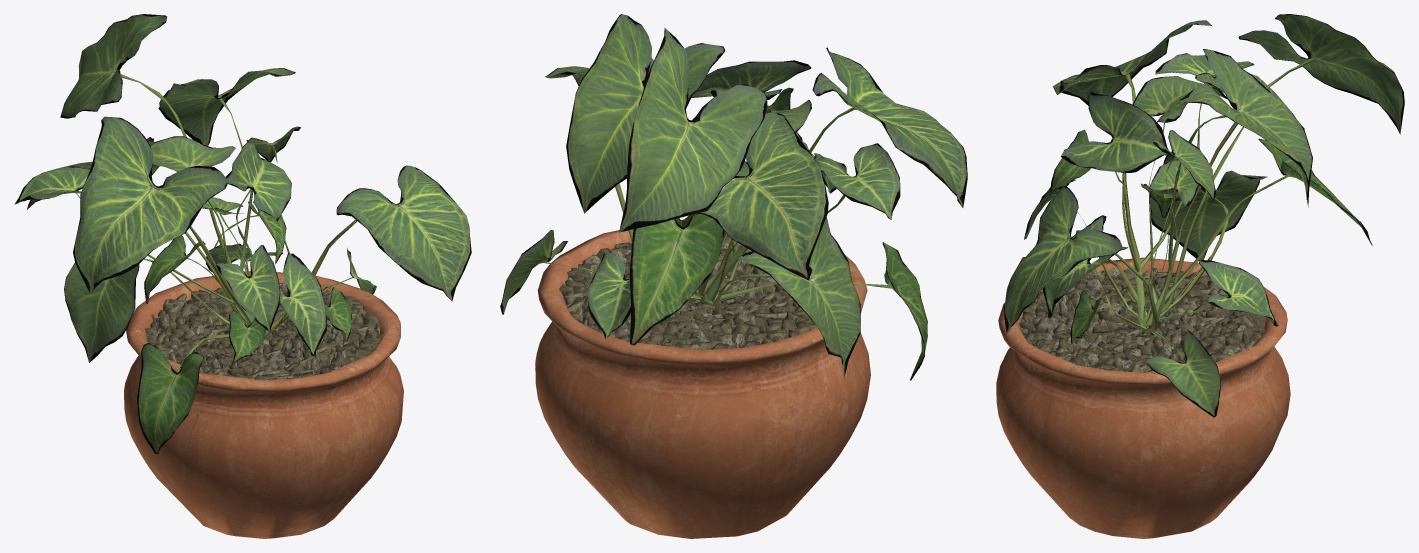
The model's file is potted_plant_02.glb.
3 views of the same model, side by side, from view 1: azimuth 30°, elevation 25°; view 2: azimuth 150°, elevation 25°; view 3: azimuth 270°, elevation 25° (orthographic). The views are drawn at different scales.
Visible parts, largest first — view 1: potted_plant_02_leaves, potted_plant_02_pot, potted_plant_02_dirt; view 2: potted_plant_02_leaves, potted_plant_02_pot, potted_plant_02_dirt; view 3: potted_plant_02_leaves, potted_plant_02_pot, potted_plant_02_dirt.
Boxes of the visible parts, bbox=[...] form: potted_plant_02_leaves: bbox=[14, 14, 471, 453]; potted_plant_02_pot: bbox=[124, 271, 403, 538]; potted_plant_02_dirt: bbox=[144, 282, 382, 380]; potted_plant_02_leaves: bbox=[500, 14, 967, 380]; potted_plant_02_pot: bbox=[535, 220, 870, 538]; potted_plant_02_dirt: bbox=[559, 233, 816, 349]; potted_plant_02_leaves: bbox=[1004, 14, 1404, 417]; potted_plant_02_pot: bbox=[996, 257, 1290, 538]; potted_plant_02_dirt: bbox=[1019, 267, 1265, 372].
Size of the model in its own units: 0.7009 by 0.8412 by 0.6561.
2 materials, 2 textured.
